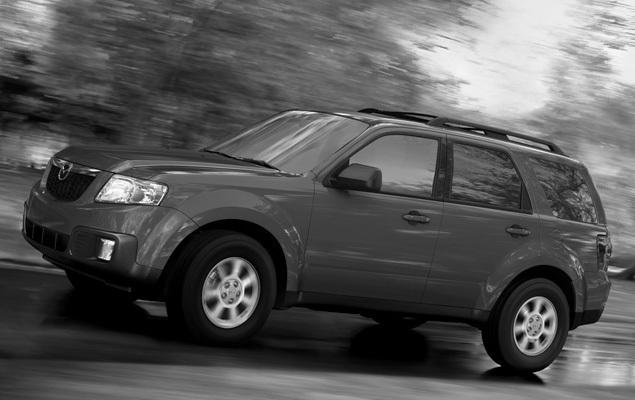car: (19, 104, 616, 385)
